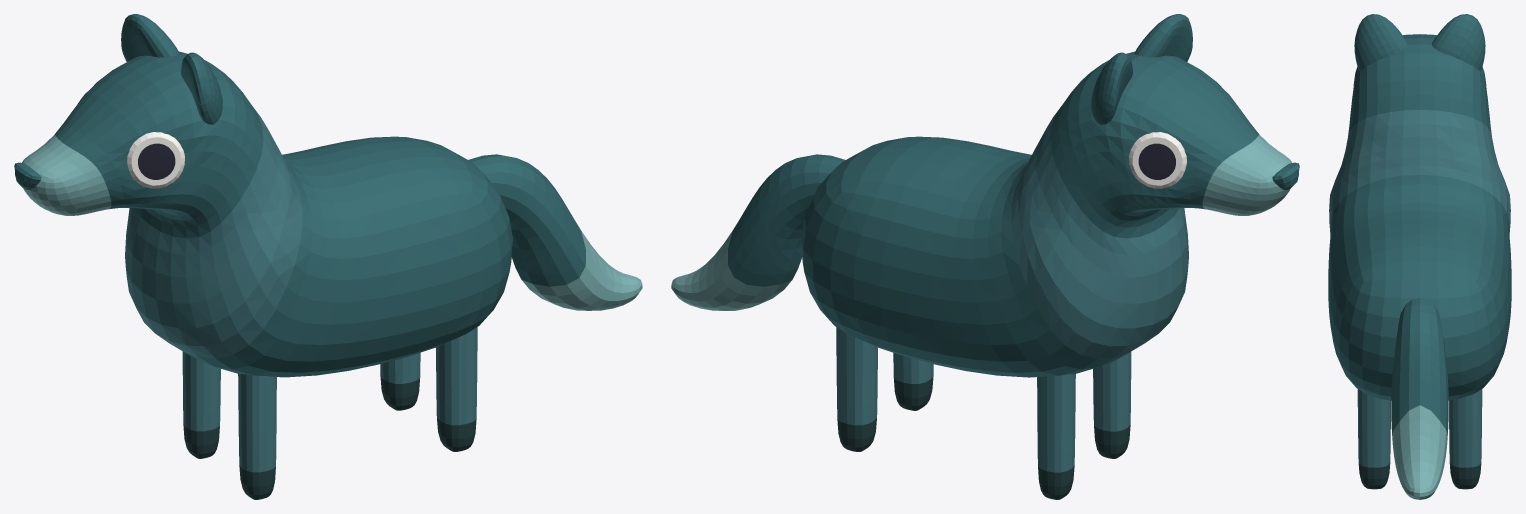
File: Wolf_LOD0.fbx
3 renders of one model, left to right at view 1: azimuth 30°, elevation 25°; view 2: azimuth 150°, elevation 25°; view 3: azimuth 270°, elevation 25°, orthographic. The views are drawn at different scales.
Visible parts, largest first — view 1: Mesh; view 2: Mesh; view 3: Mesh.
Boxes of the visible parts, <box> form: Mesh: <box>14,14,642,499</box>; Mesh: <box>671,14,1299,499</box>; Mesh: <box>1328,14,1511,499</box>.
Bounding box in the file's own units: 395 × 277 × 125.
Materials: 1 (1 with a texture image).
